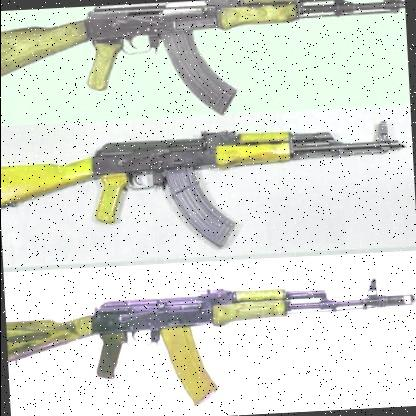rifle: (4, 264, 416, 416), (0, 120, 412, 265), (0, 0, 407, 133)
